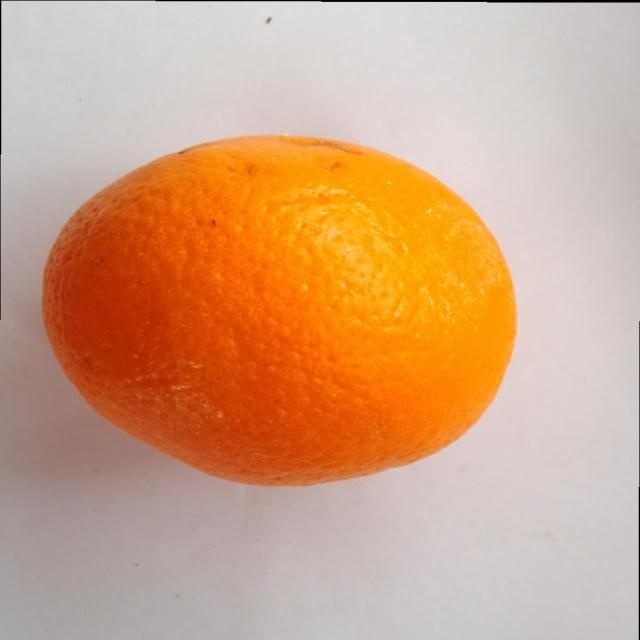agrume: (40, 132, 518, 488)
